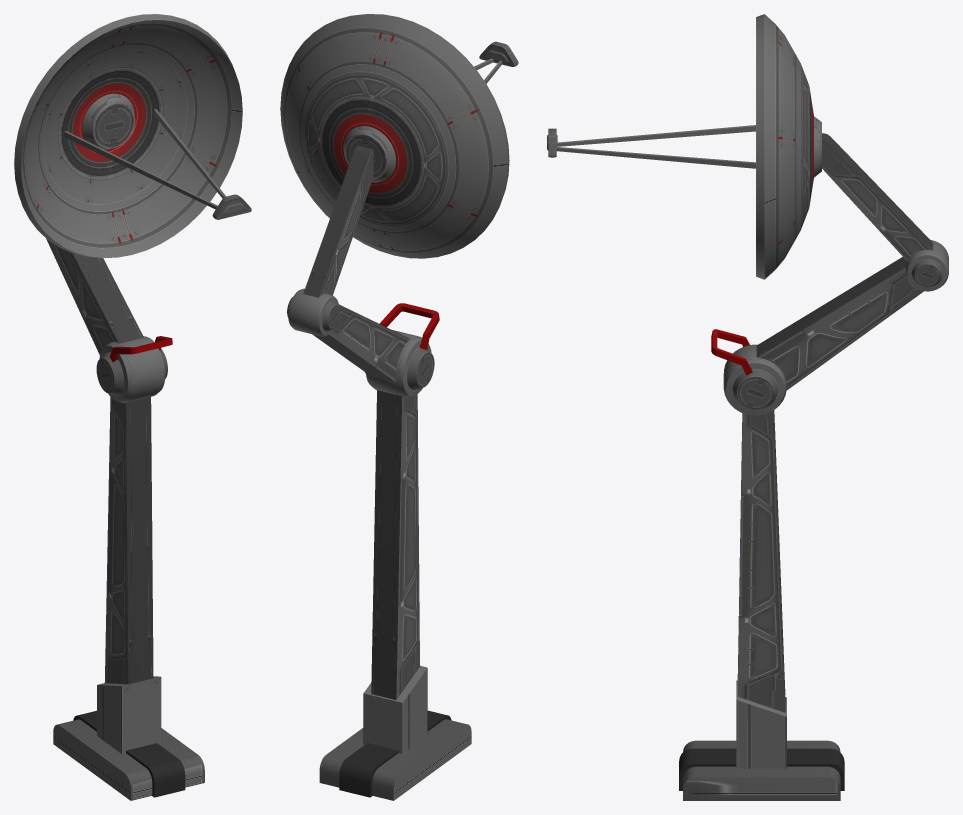
Rendered from scifi-satellitedish.glb.
The picture shows the model from 3 angles, left to right: view 1: azimuth 30°, elevation 25°; view 2: azimuth 150°, elevation 25°; view 3: azimuth 270°, elevation 25°; orthographic projection.
Parts seen in each view (by area): view 1: Prop_SatelliteDish; view 2: Prop_SatelliteDish; view 3: Prop_SatelliteDish.
Boxes of the visible parts, box(x1,y1,x2,y2) form: Prop_SatelliteDish: box(14, 14, 251, 800); Prop_SatelliteDish: box(280, 14, 518, 800); Prop_SatelliteDish: box(547, 14, 948, 800).
Bounding box in the file's own units: 1.84 × 5.79 × 2.78.
Materials: 3 (3 with a texture image).
